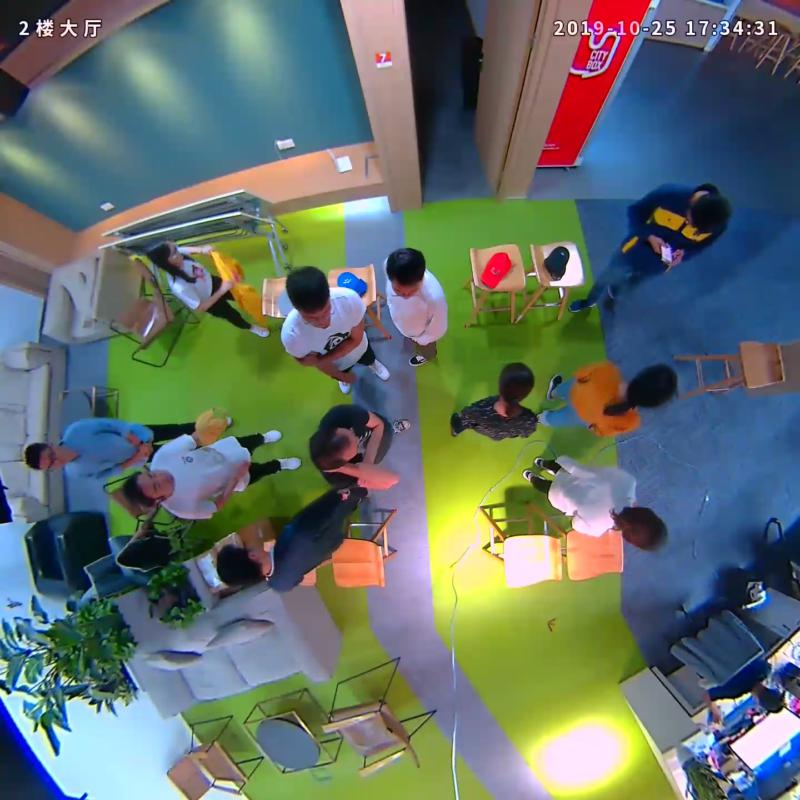head: (285, 265, 331, 326), (215, 543, 270, 587), (617, 504, 665, 551), (309, 426, 360, 470), (628, 364, 679, 408), (384, 246, 425, 300), (686, 191, 731, 234), (121, 468, 173, 504), (497, 362, 535, 403), (25, 441, 68, 472), (147, 240, 184, 265)
